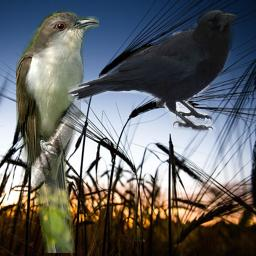Crow: (68, 9, 237, 133)
Cuckoo: (16, 4, 99, 253)
